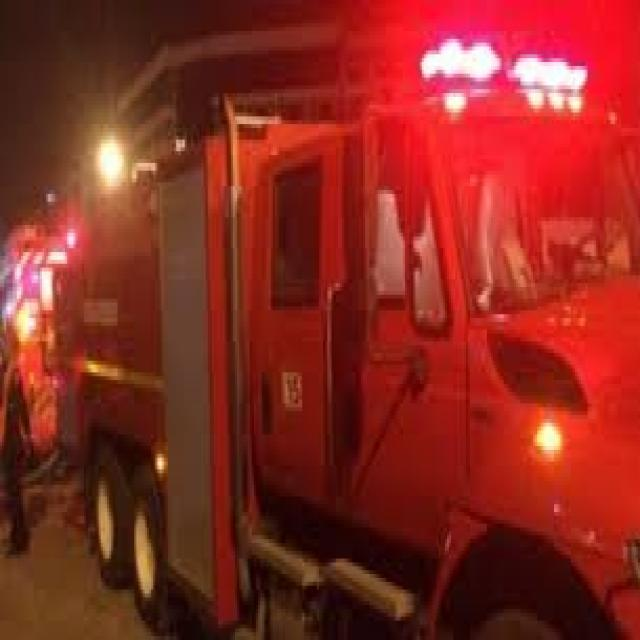emergency: (59, 42, 640, 640)
